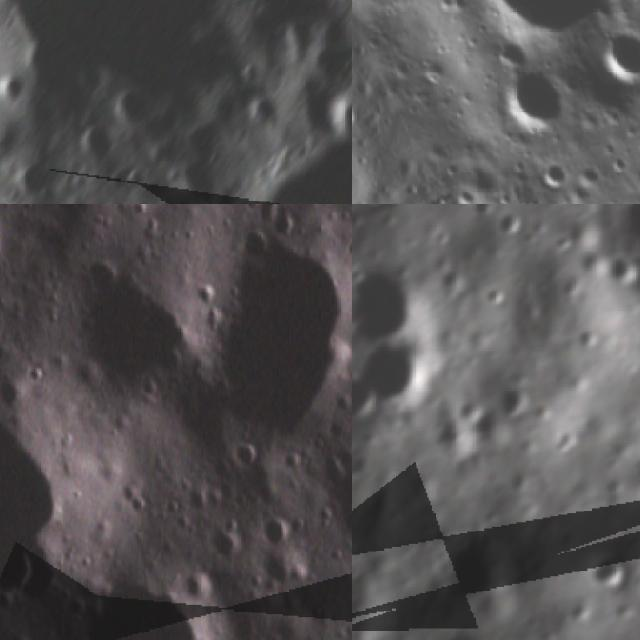crater: (195, 227, 352, 444), (76, 247, 202, 413), (0, 394, 63, 610), (484, 43, 588, 150), (63, 571, 220, 640), (455, 0, 631, 58), (434, 531, 514, 615), (352, 259, 428, 345), (354, 336, 433, 412), (587, 13, 640, 97), (252, 550, 306, 600), (81, 118, 121, 171), (254, 507, 298, 555), (582, 554, 631, 594), (489, 382, 535, 423), (208, 524, 246, 573), (15, 160, 57, 204), (0, 64, 30, 117), (324, 92, 352, 146), (125, 163, 162, 199), (247, 96, 281, 130), (490, 206, 525, 239), (53, 204, 104, 226), (352, 589, 368, 633), (466, 204, 500, 223), (236, 61, 262, 84)
